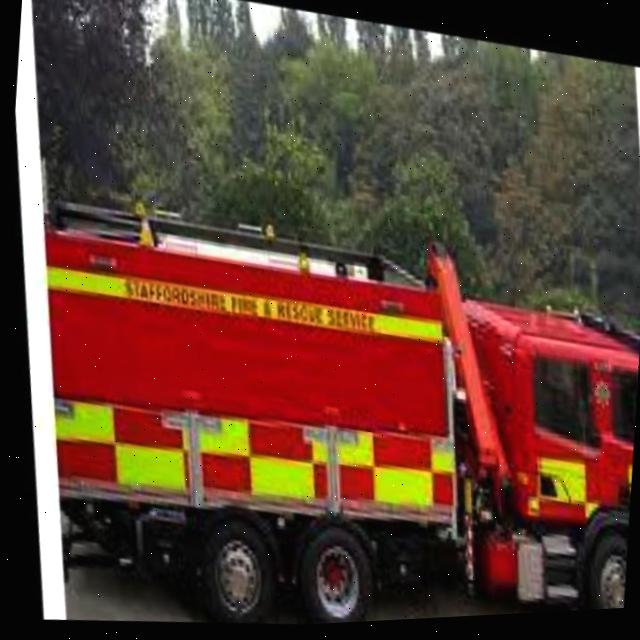emergency: (14, 169, 640, 639)
